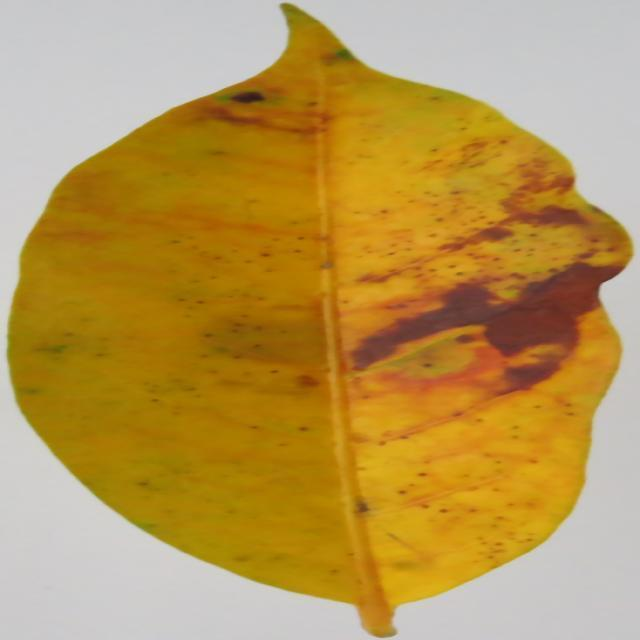DeficienciaNutricional-Fosforo: (9, 5, 629, 636)
